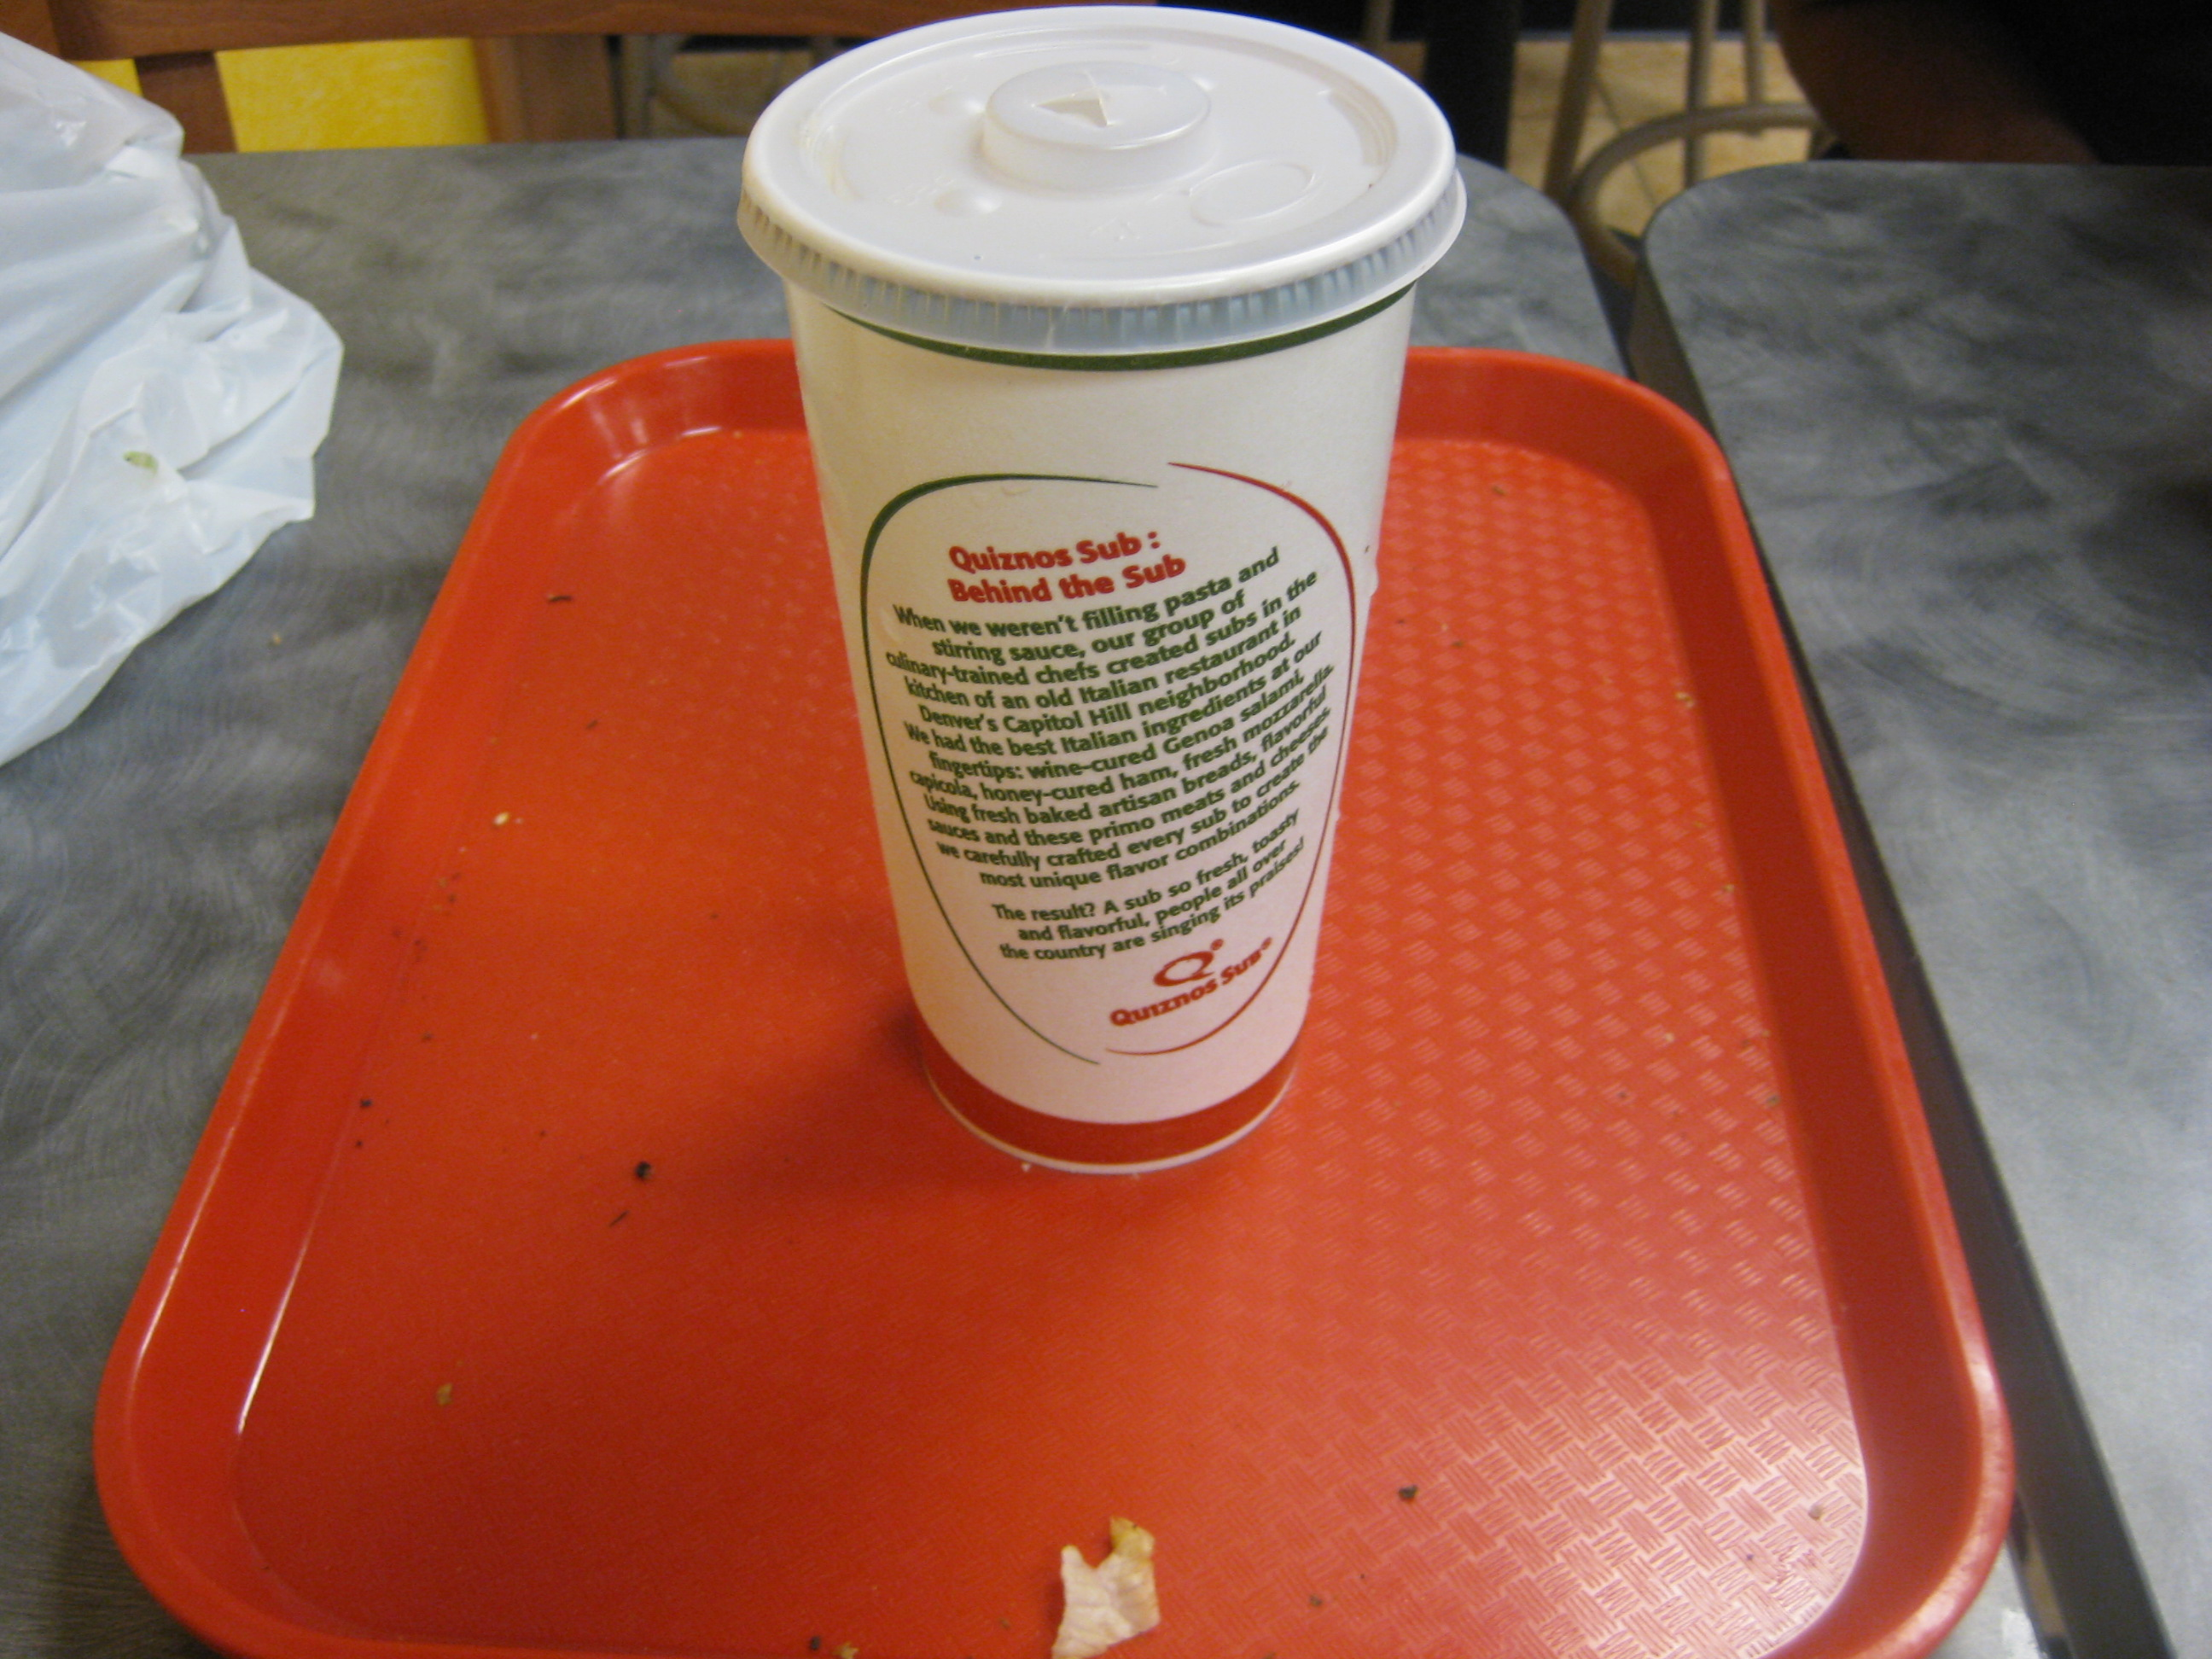drink: (720, 2, 1482, 1226)
